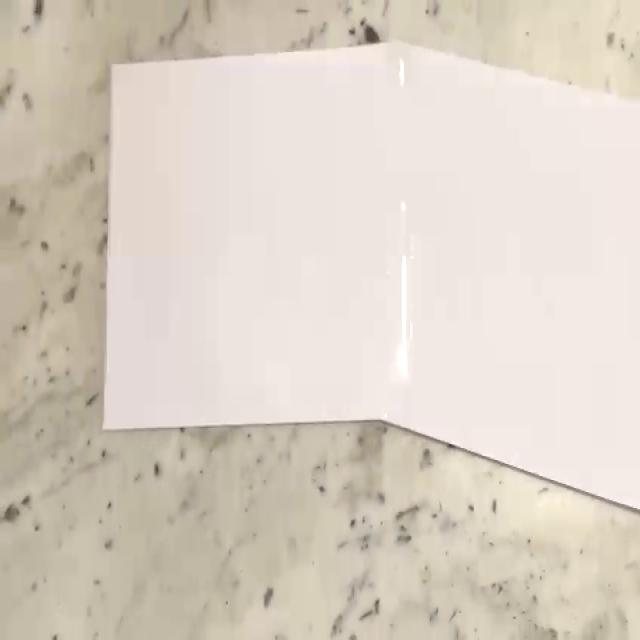road: (100, 43, 640, 511)
